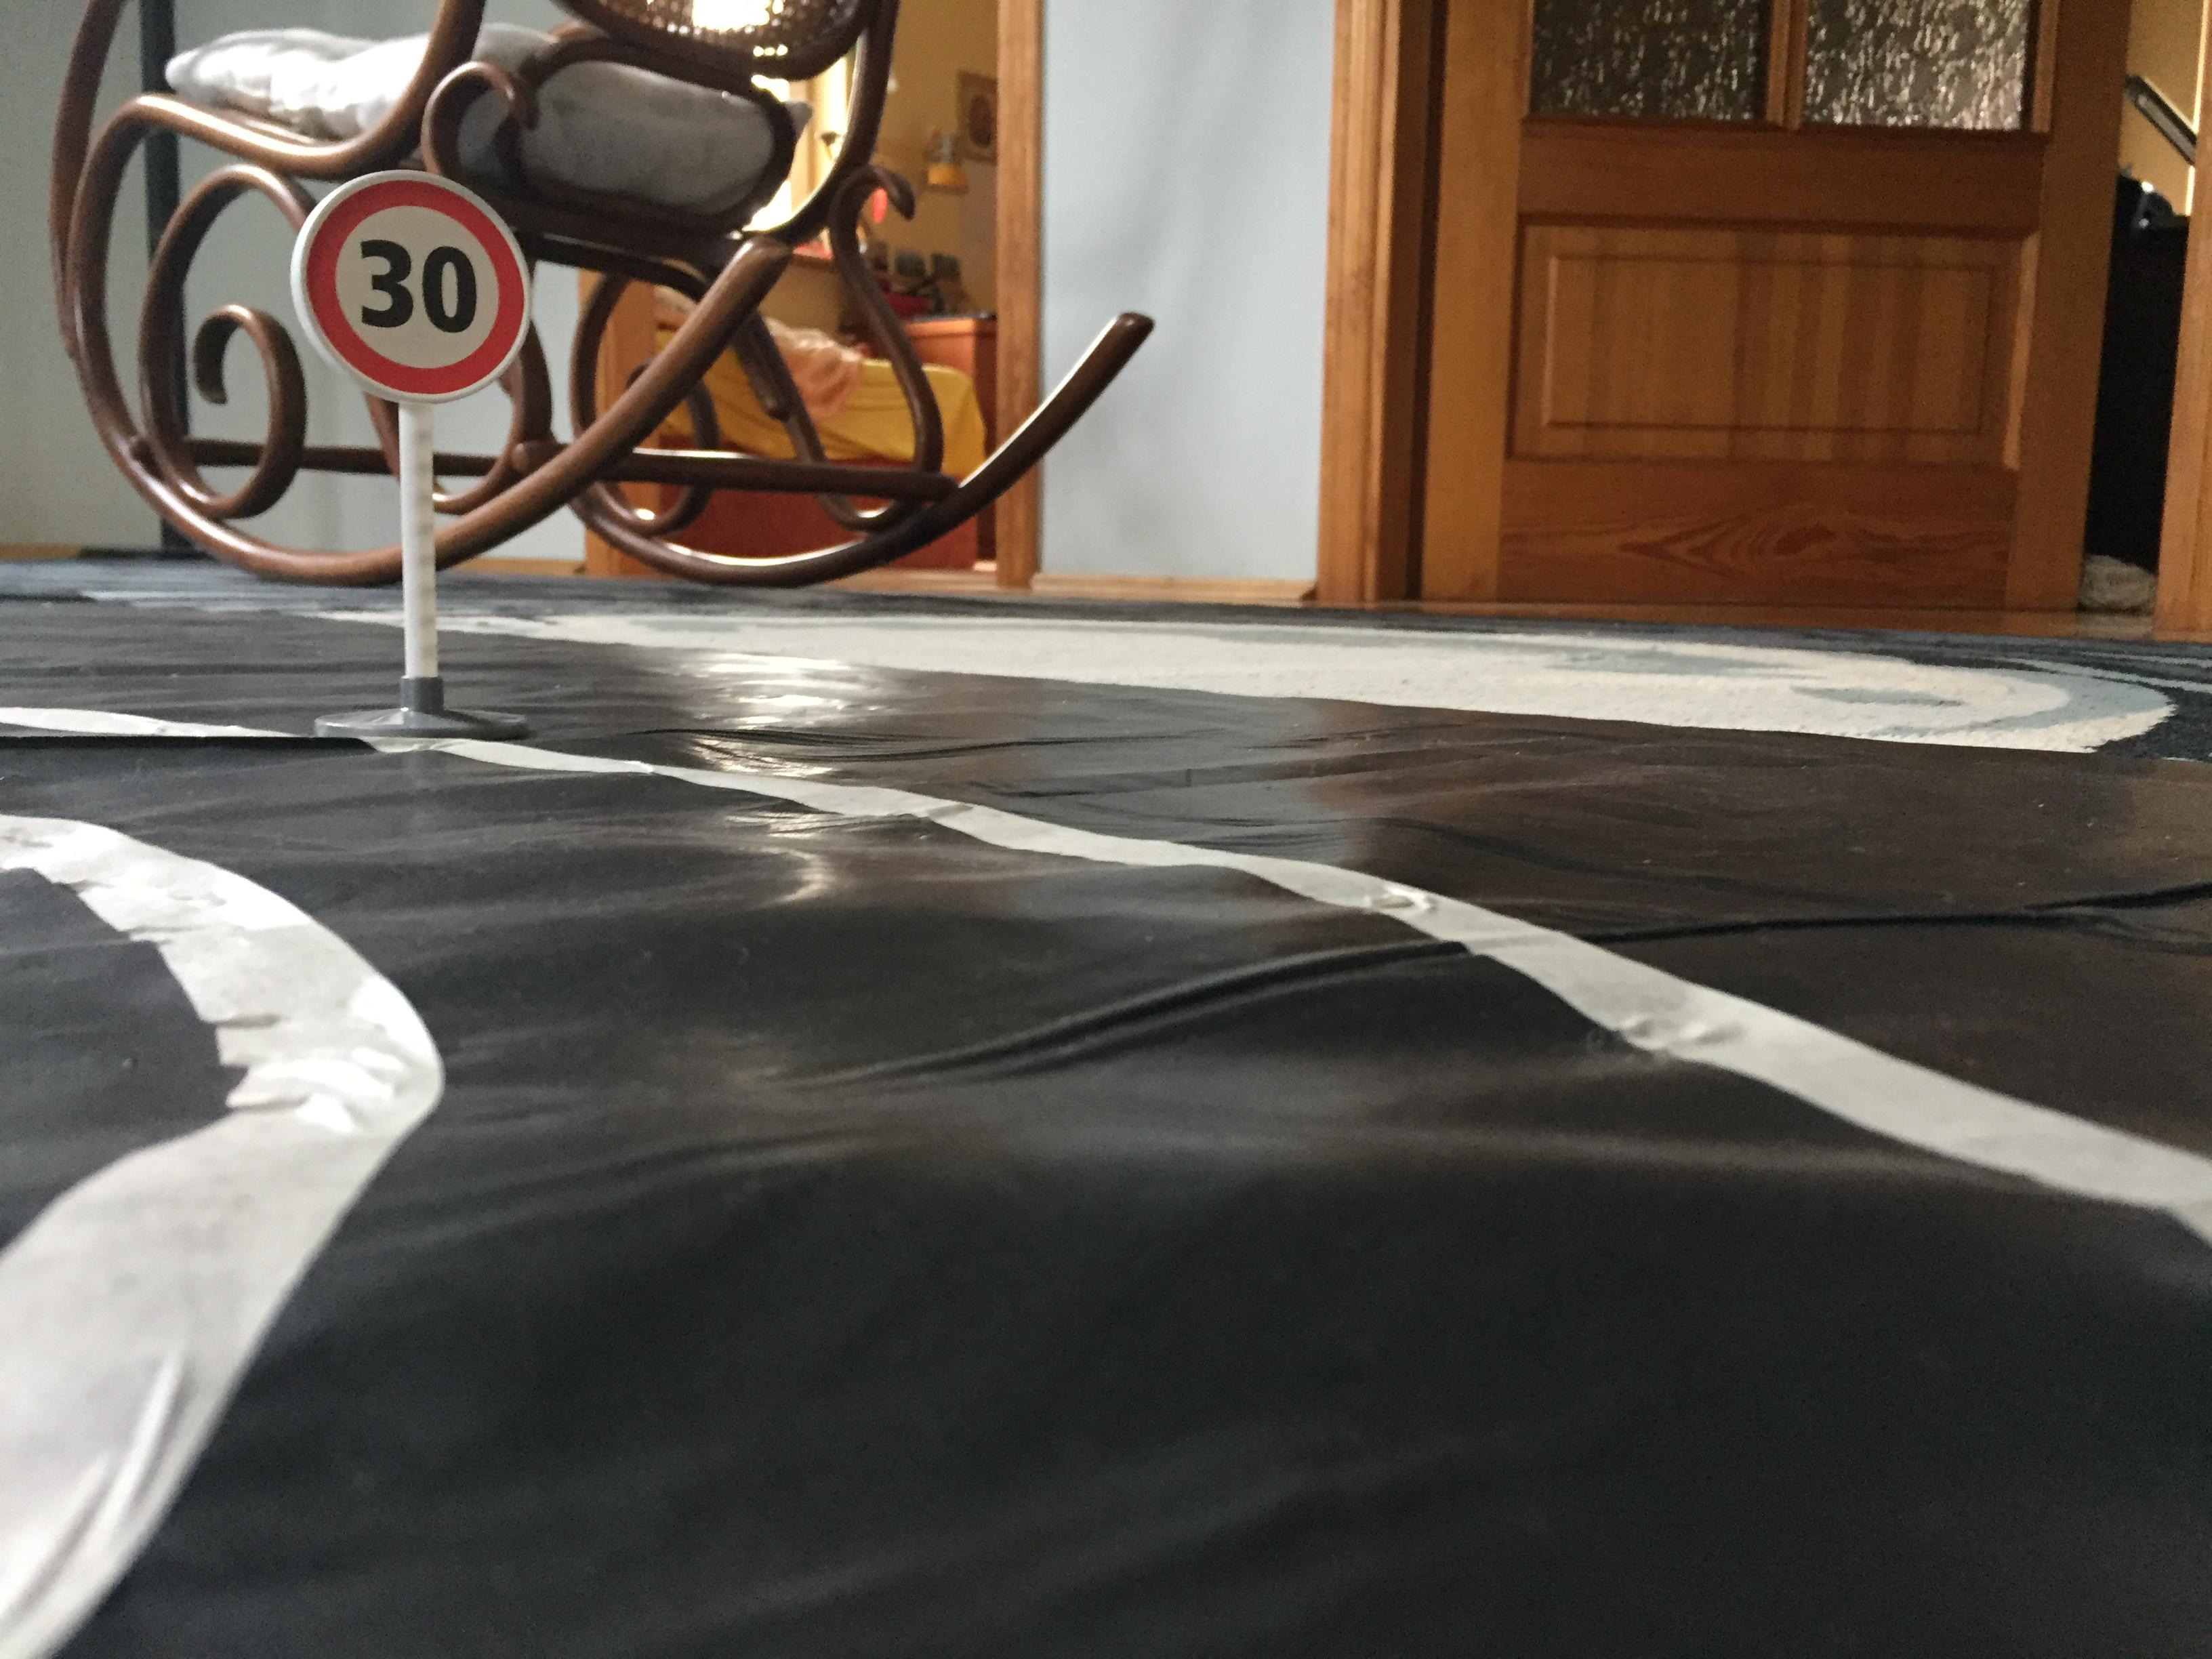speed: (284, 159, 543, 406)
